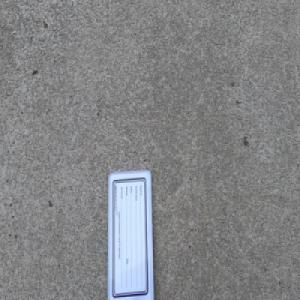LuggageTag: (106, 167, 156, 300)
